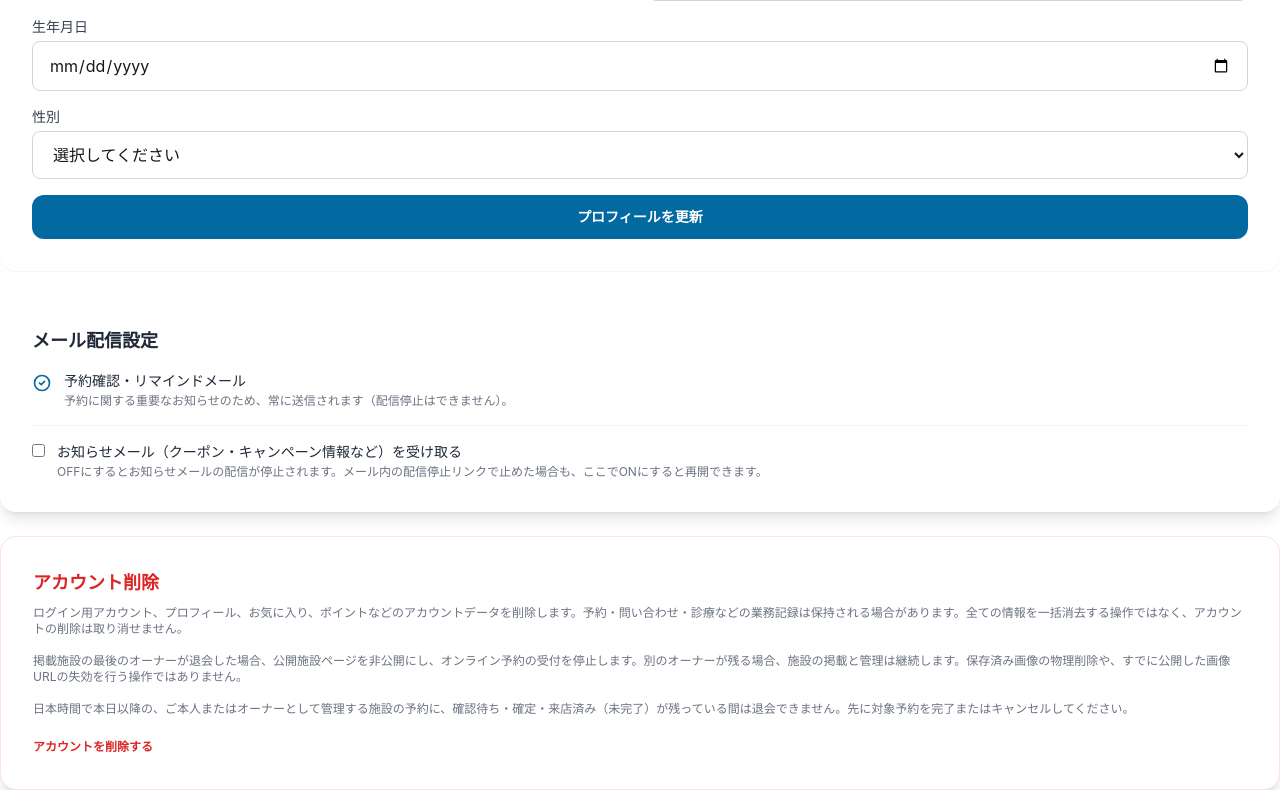
Test: HTTP エラー（サーバーの文言を出す） は再開済みに見せない
(page scrolled)
Click the checkbox labelled "お知らせメール（クーポン・キャンペーン情報など）を受け取る" at [38, 450], box [32,444,45,457]
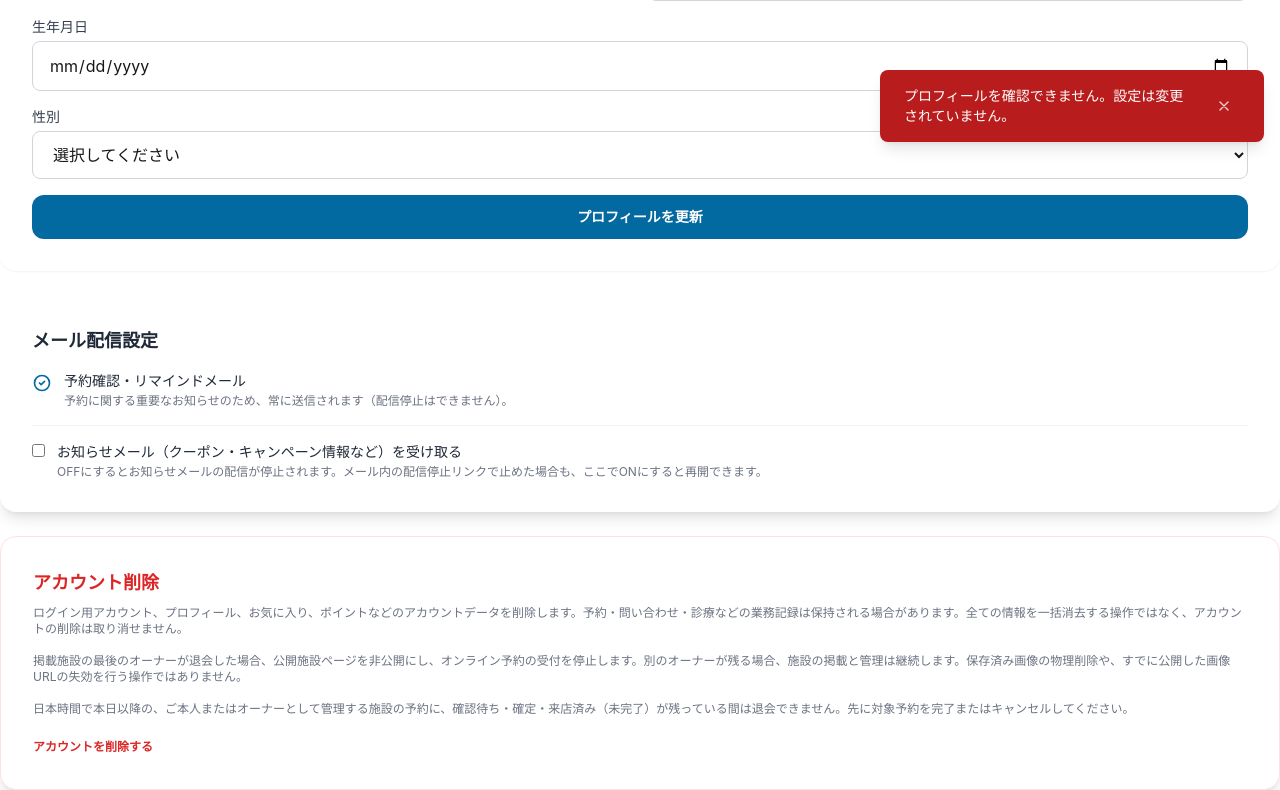
Check: the text "プロフィールを確認できません。設定は変更されていません。" is shown, box [904,86,1196,126]
